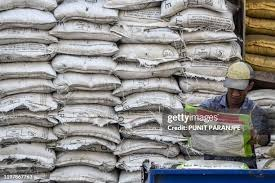sack: (163, 109, 253, 158), (113, 44, 182, 79), (118, 112, 182, 146), (0, 99, 61, 129), (113, 20, 182, 46), (0, 143, 55, 174), (168, 8, 235, 32), (55, 0, 119, 25), (50, 20, 118, 42), (51, 151, 117, 173), (117, 92, 182, 114), (114, 77, 182, 98), (53, 123, 120, 144), (52, 55, 119, 76), (53, 105, 119, 126), (113, 14, 179, 35), (181, 41, 243, 63), (52, 73, 120, 93), (0, 124, 58, 147), (47, 39, 119, 57), (52, 136, 118, 155), (113, 139, 179, 158), (1, 93, 60, 114), (0, 8, 56, 30), (51, 90, 121, 107), (115, 9, 174, 28), (0, 61, 56, 81), (0, 78, 55, 98), (51, 166, 115, 183), (178, 28, 238, 46), (0, 43, 53, 63), (180, 91, 227, 113), (251, 94, 275, 137), (242, 58, 275, 89), (181, 59, 229, 80), (0, 28, 55, 46), (179, 75, 228, 94), (116, 110, 162, 129), (247, 89, 275, 119), (254, 130, 275, 169), (244, 34, 275, 57), (243, 16, 275, 38), (0, 0, 57, 12), (223, 77, 254, 98), (243, 53, 275, 73), (244, 0, 275, 19), (102, 0, 160, 10), (225, 60, 252, 80), (249, 70, 275, 90), (160, 0, 187, 18)
